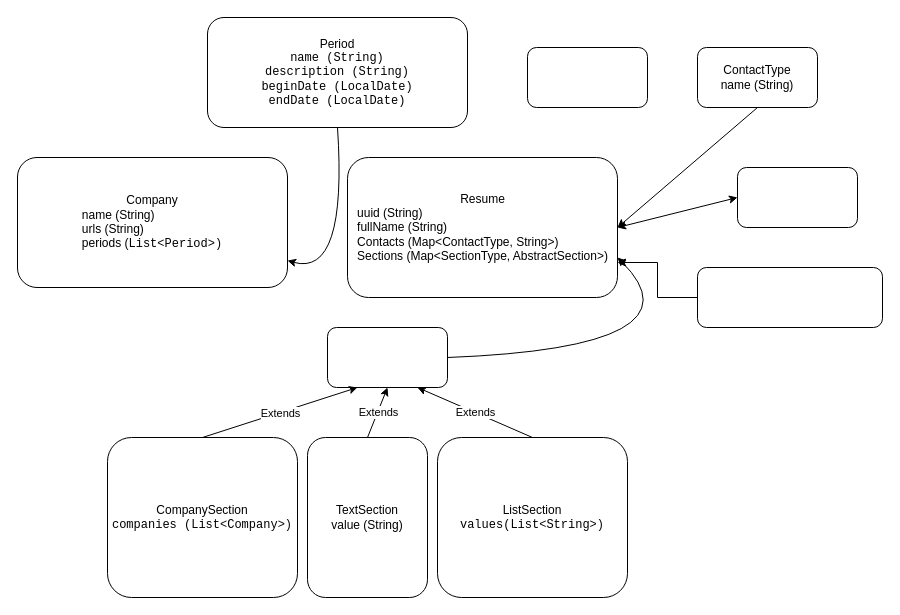
This 900x615 diagram has some shape labels left out. The shapes that lost their labels are listed below. From the top down, each one's centre as x and y in pixels, then its label:
(587,77): MainString
(797,197): String
(789,297): SectionType title (String)
(387,357): AbstractSection
